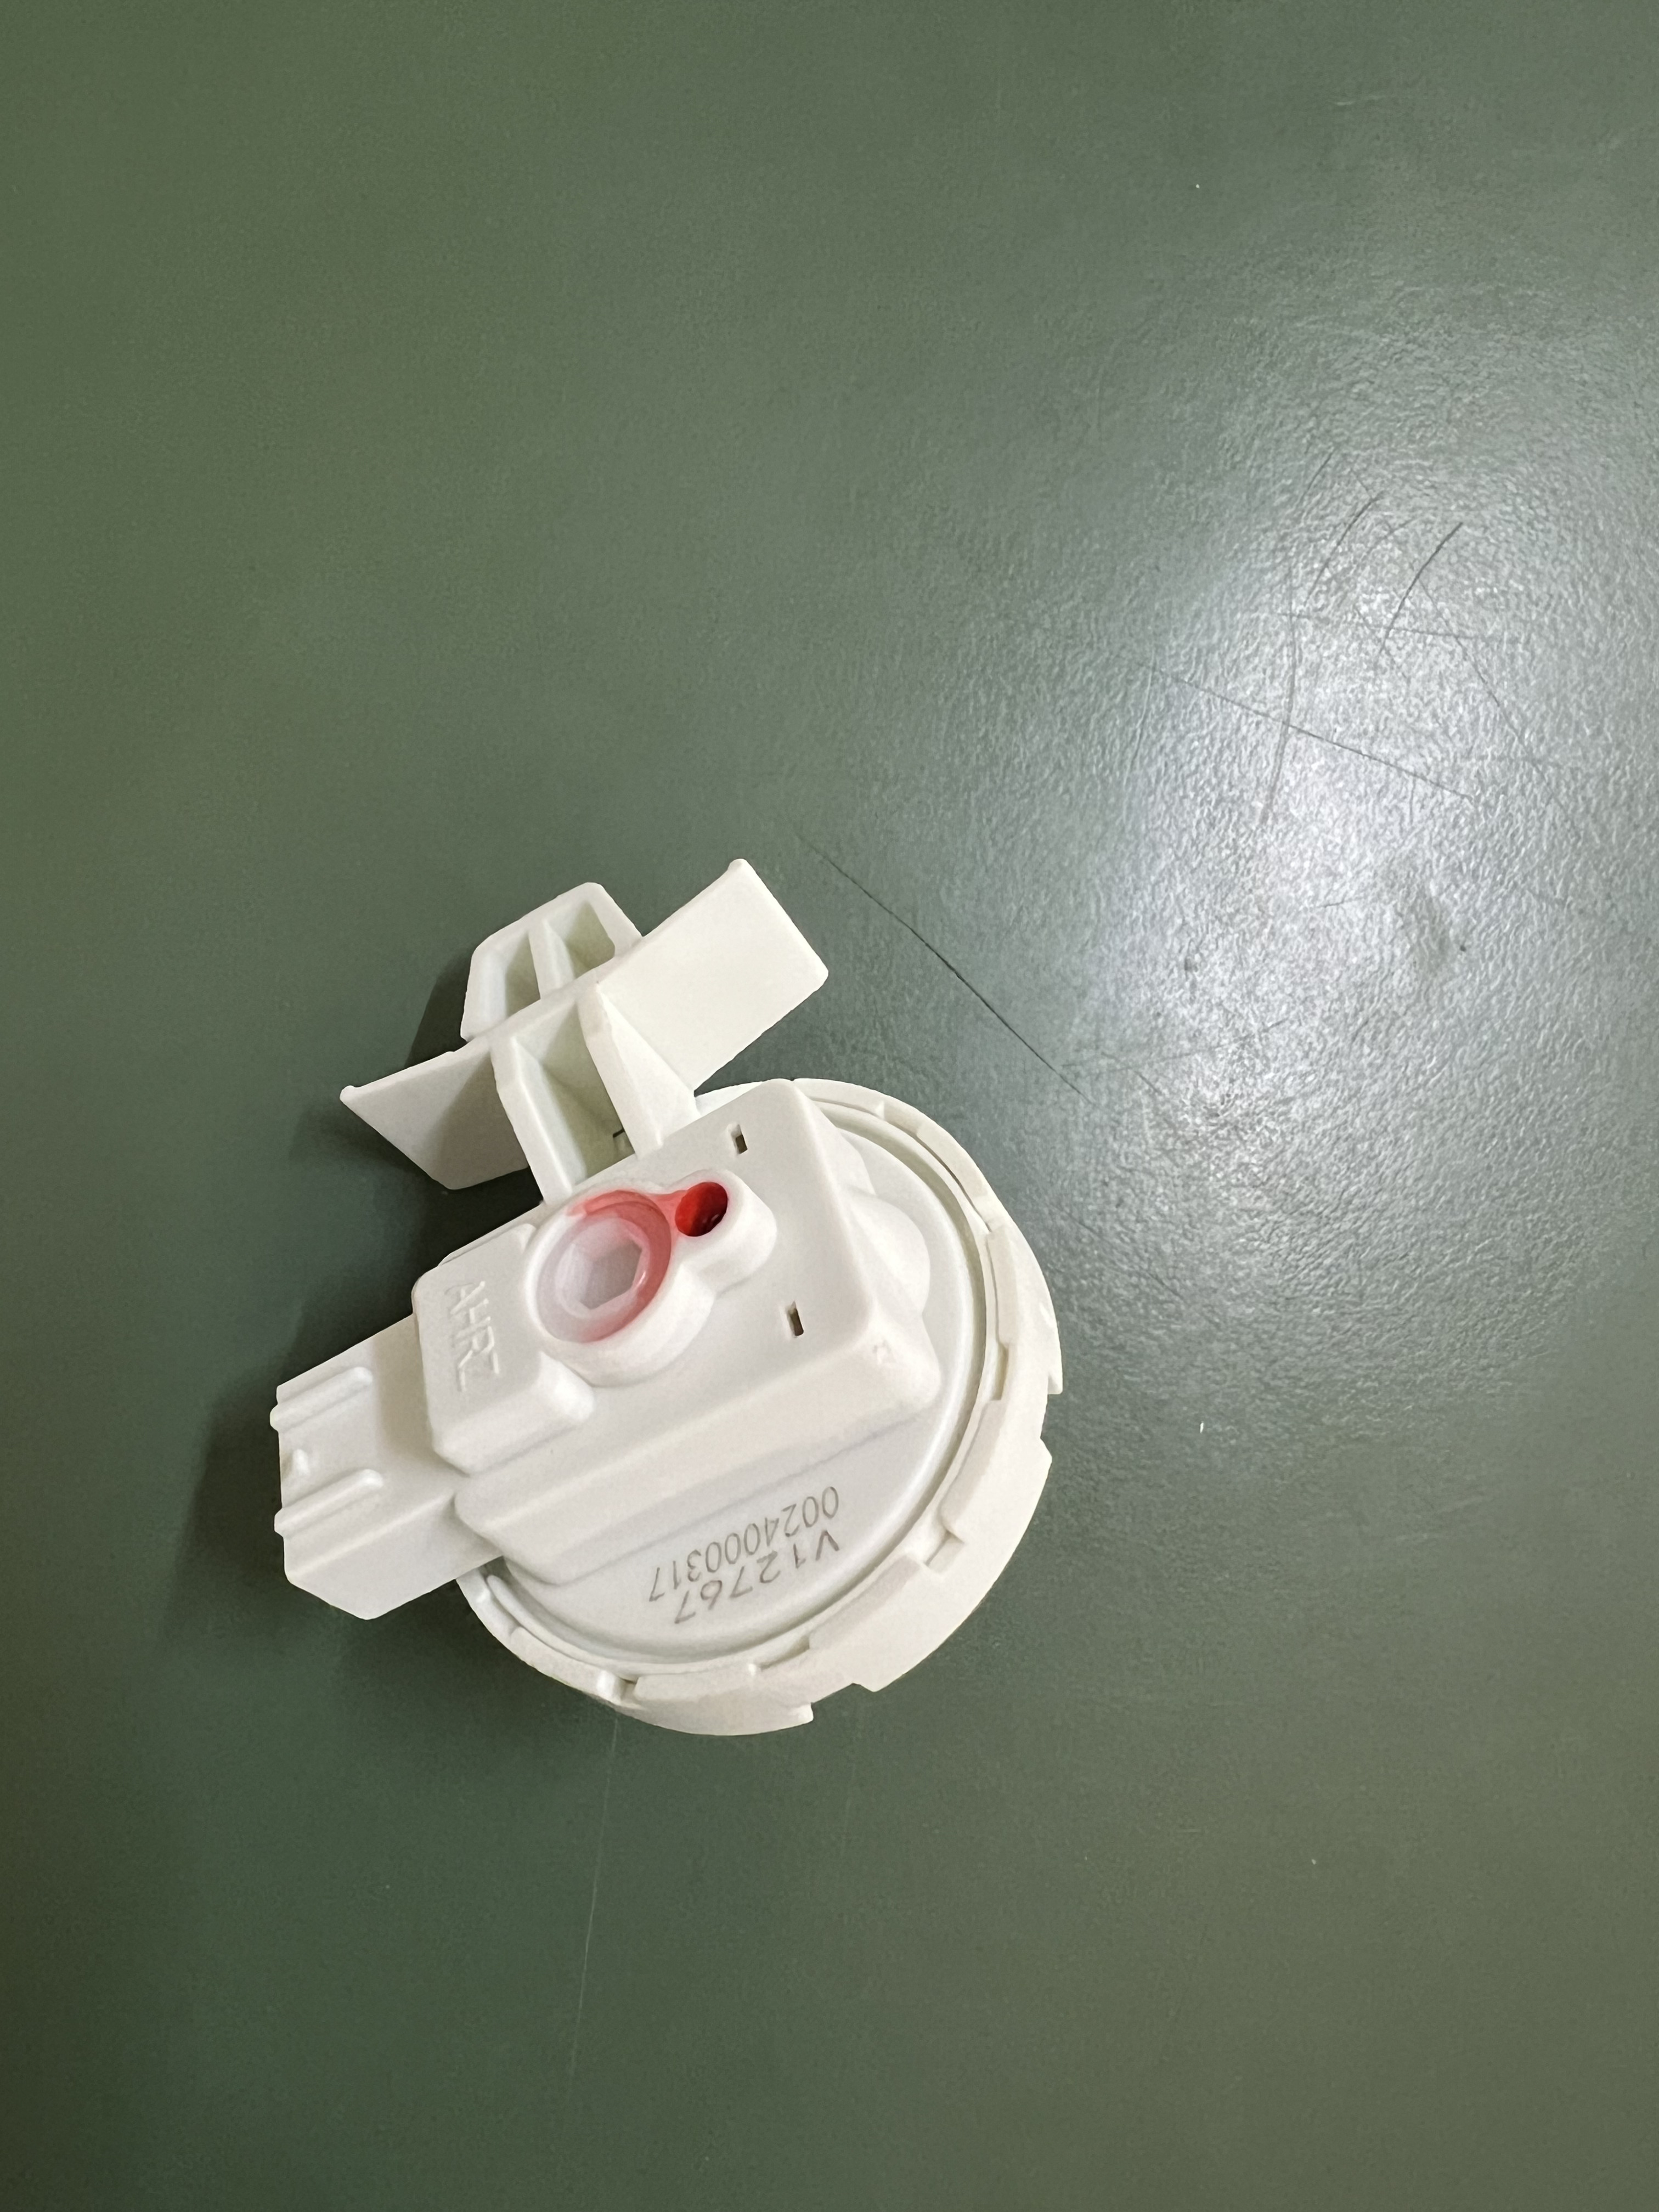pressure_switch_2: (246, 848, 1194, 1796)
